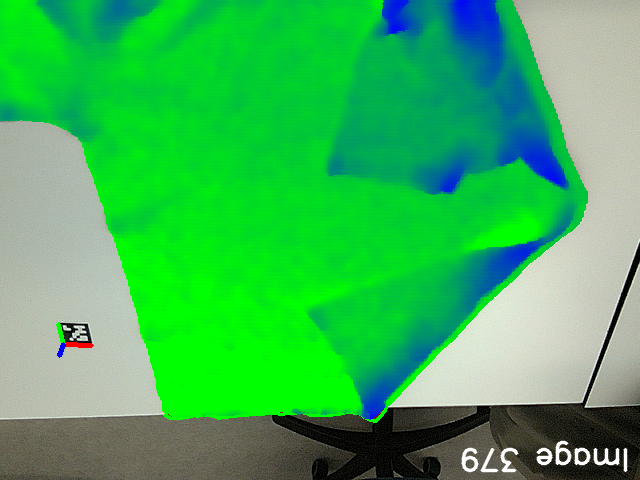V: (315, 142, 371, 188), (299, 292, 349, 336)
